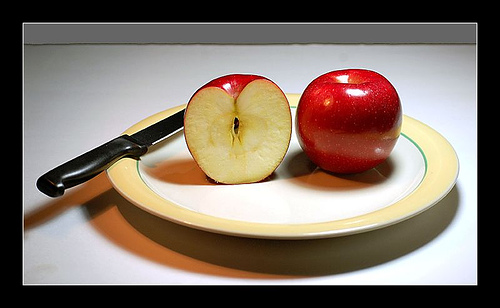apple: (185, 75, 293, 185), (295, 68, 403, 174)
